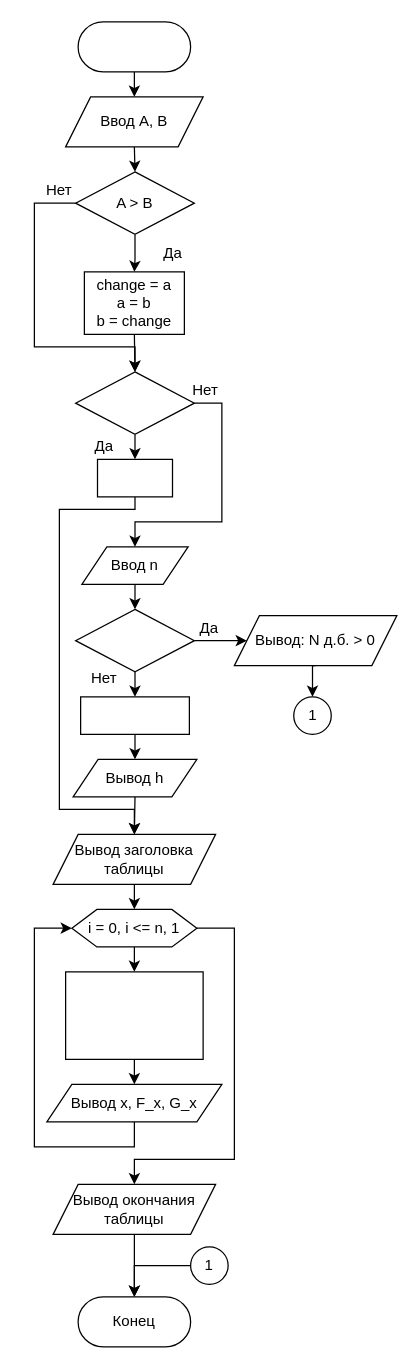
Image size: 419x1369. Some labels were removed from this diagram. Here are the shapes that lost their labels. From the top down, the box of each, then its label:
(77, 21, 191, 72): Начало
(74, 371, 194, 434): A = B
(96, 458, 172, 497): n = 0
(74, 608, 194, 672): n <= 0
(79, 696, 189, 734): h = (b - a) / n
(64, 971, 203, 1059): x = a + (i*h) F_x = (x - 2) 3 G_x = (x + 1) 3 / (1 + cos 2 (x))
